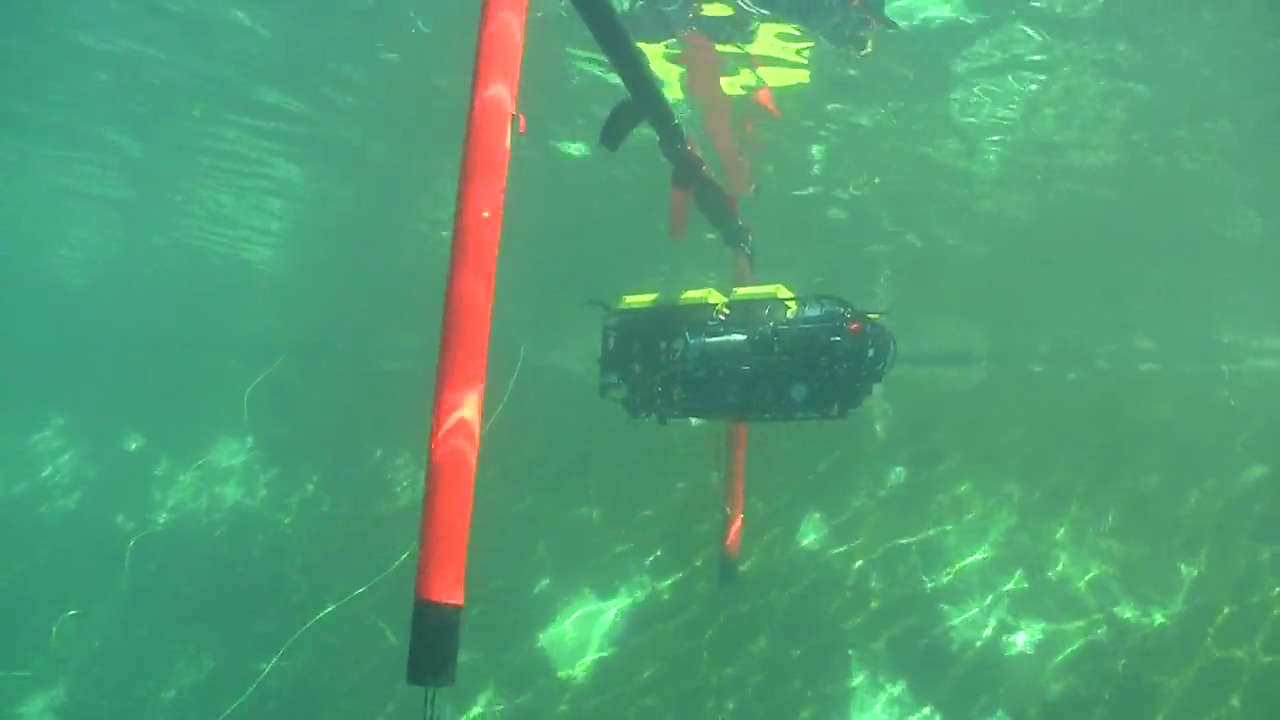gate: (400, 1, 770, 702)
